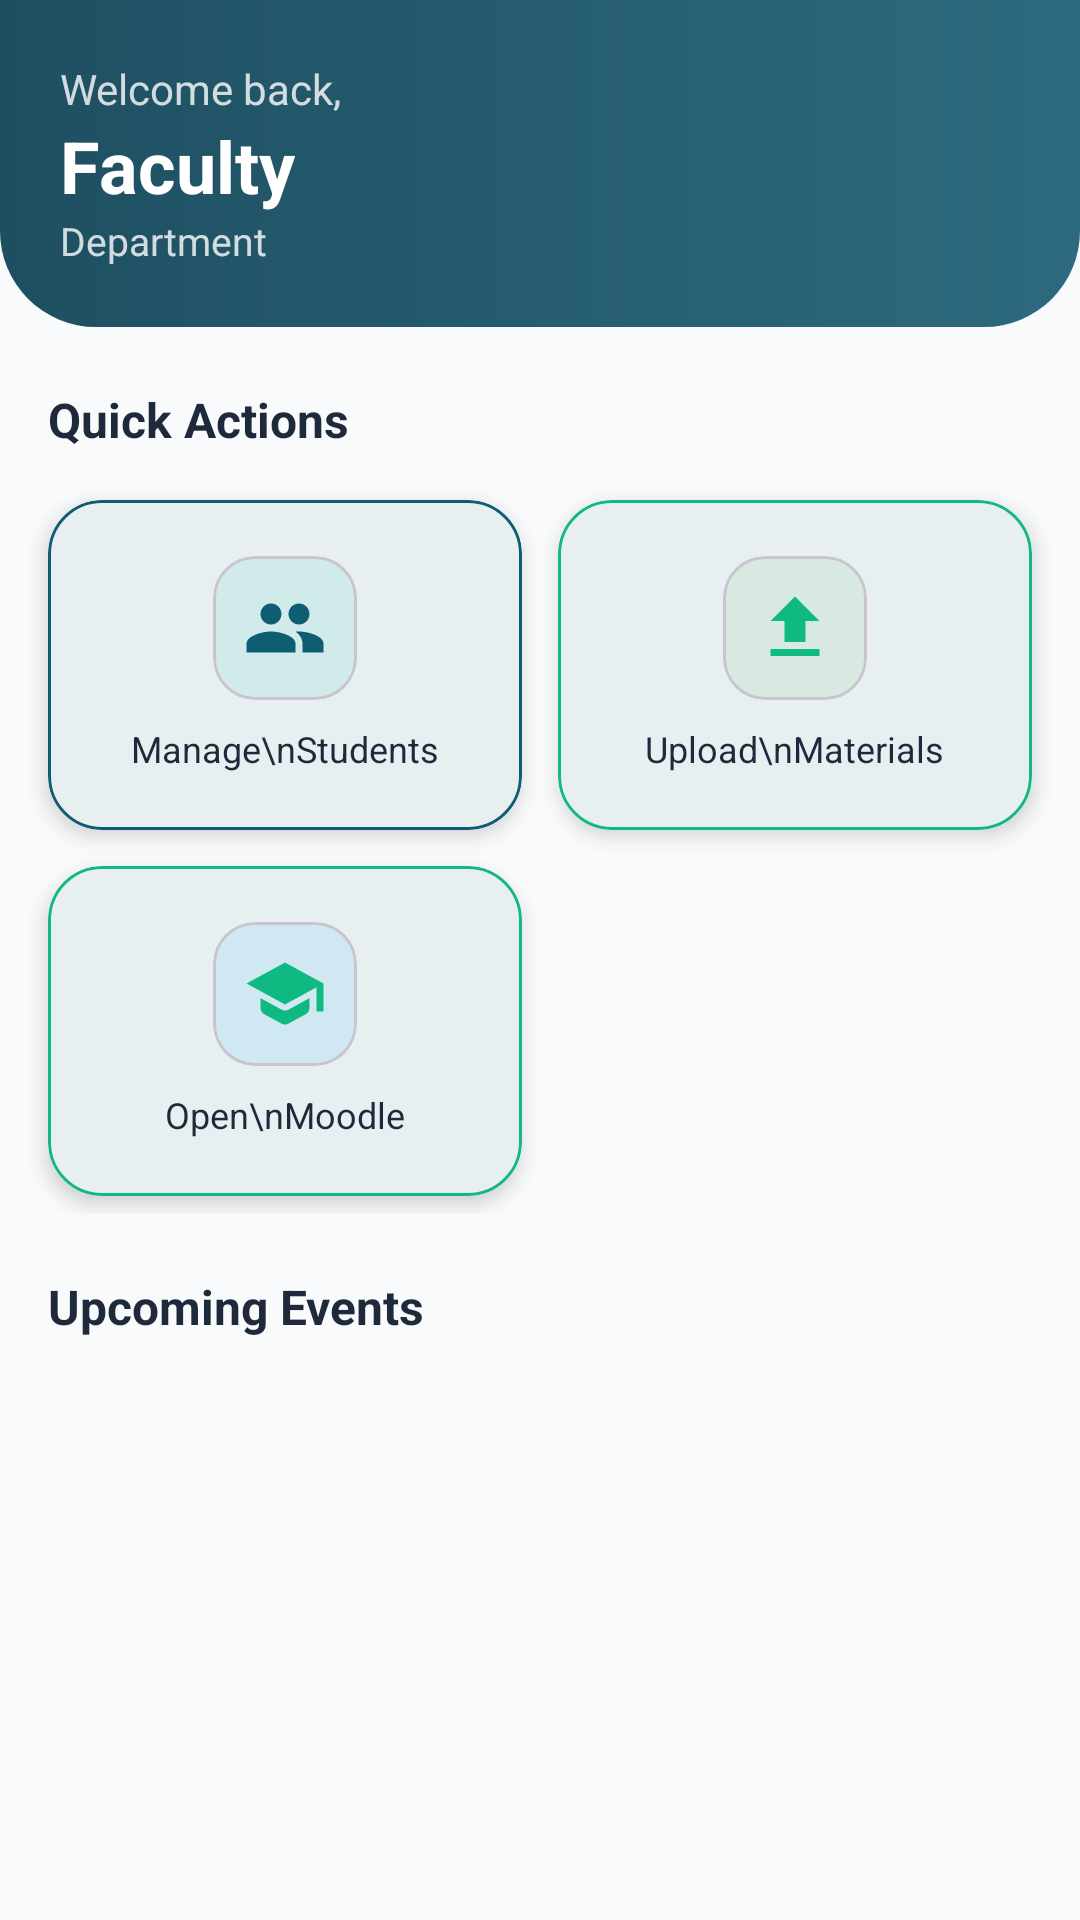

Point at icon controls on the screen. Image size 1080*1920, points as (x=x, y=y).
academics: (x=285, y=993)
